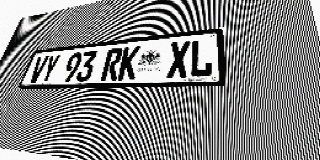3: (75, 50, 98, 82)
9: (61, 52, 84, 82)
K: (117, 46, 141, 80)
L: (189, 38, 213, 78)
R: (100, 48, 124, 81)
V: (27, 56, 49, 83)
X: (167, 41, 190, 78)
Y: (39, 54, 61, 83)
